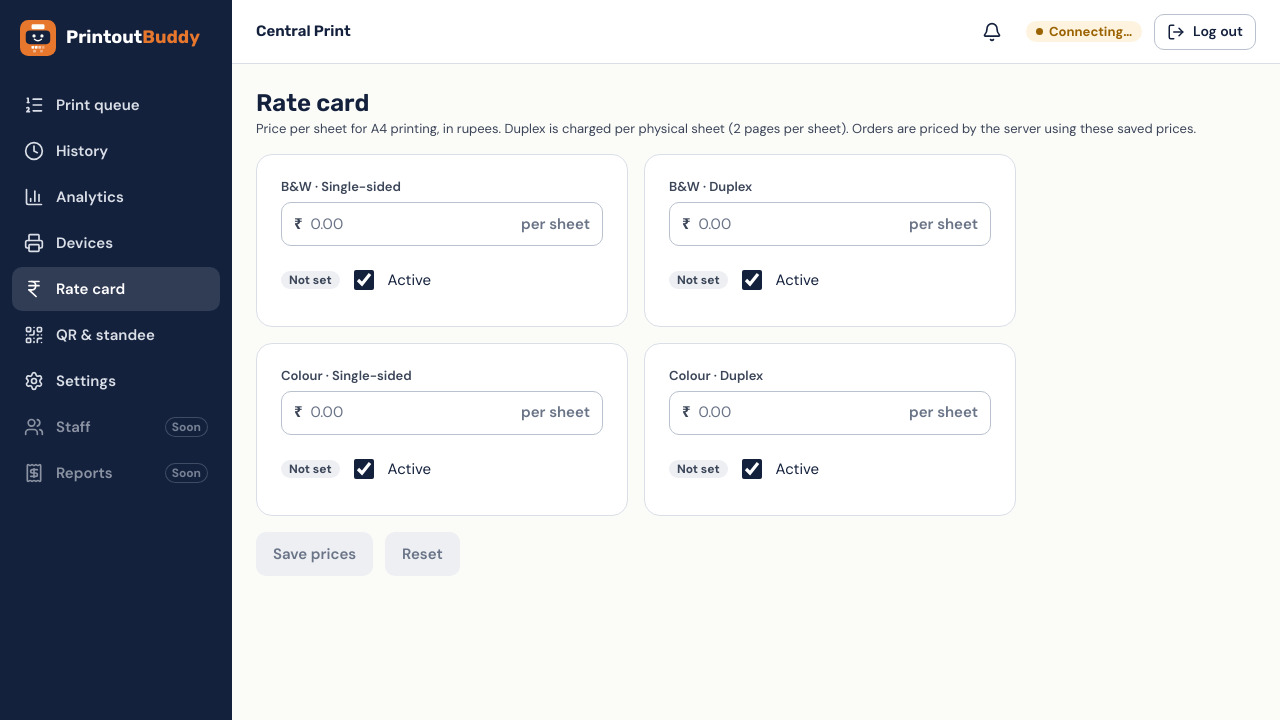
Test: pricing editor › shows per-row error for duplicate (409) and reloads
Type "2" into the field labelled "B&W · Single-sided".
click(412, 224); type("2")  # box [311,204,513,245]
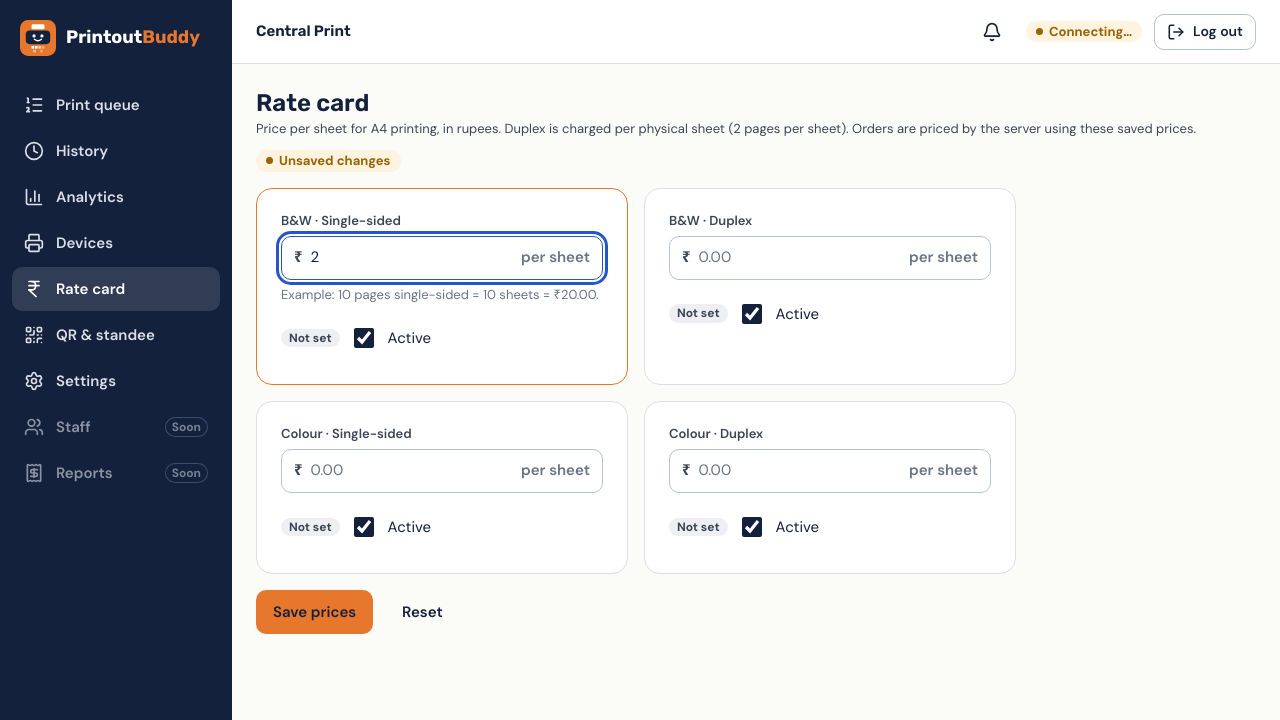
Click the button "Save prices".
click(315, 612)  # box [256,590,373,634]
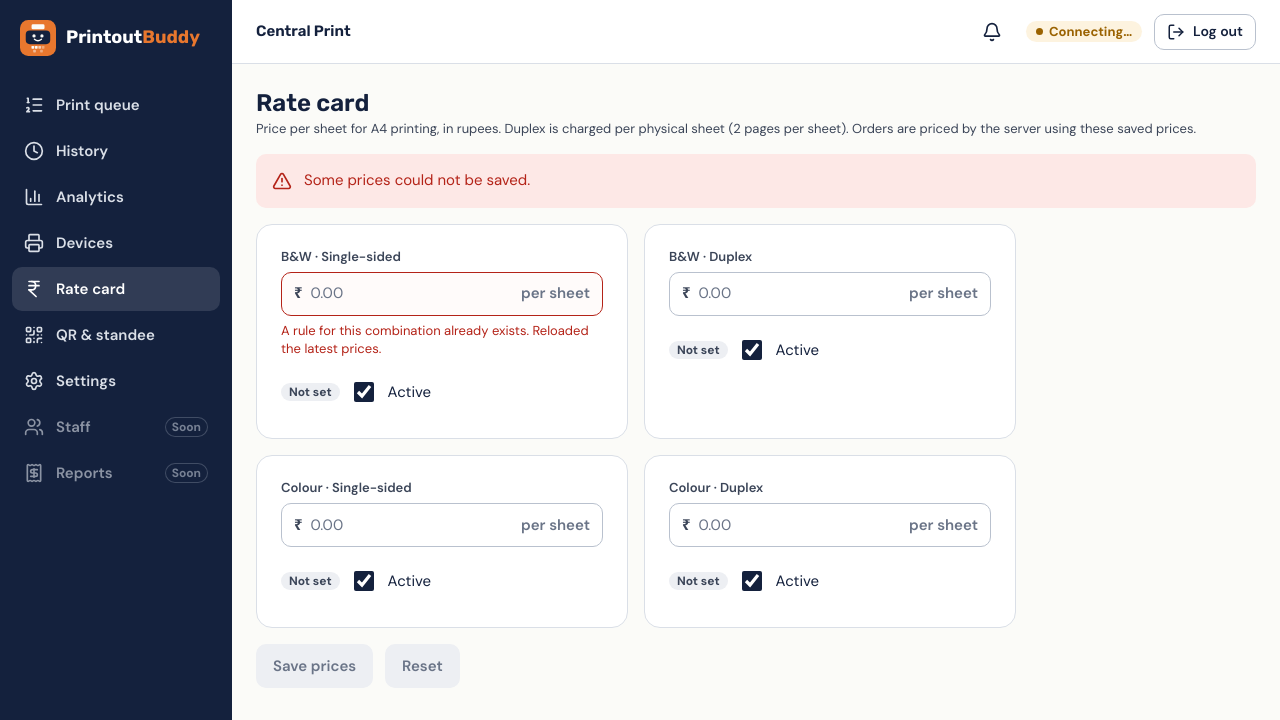
Result: the text "A rule for this combination already exists. Reloaded the latest prices." is shown at [281,322,603,358]
Result: the text "Some prices could not be saved." is shown at [304,170,530,190]
